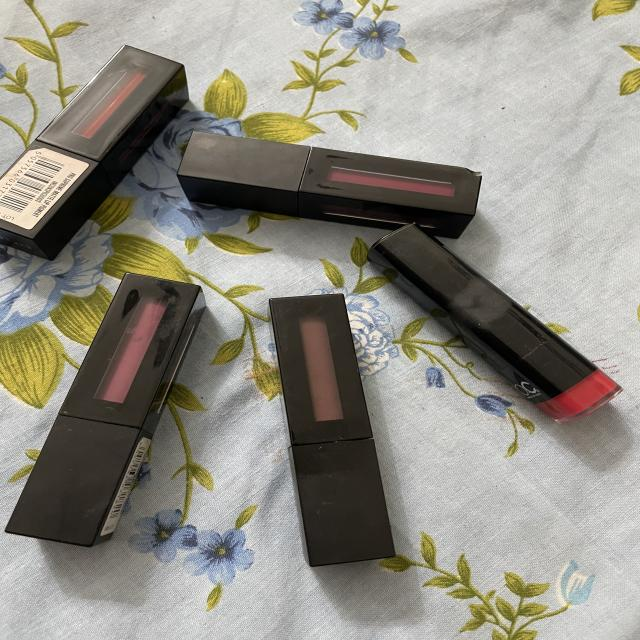lip gloss: (0, 257, 231, 557), (255, 274, 405, 575), (0, 40, 204, 256), (179, 110, 487, 244)
lip stick: (339, 210, 640, 421)
